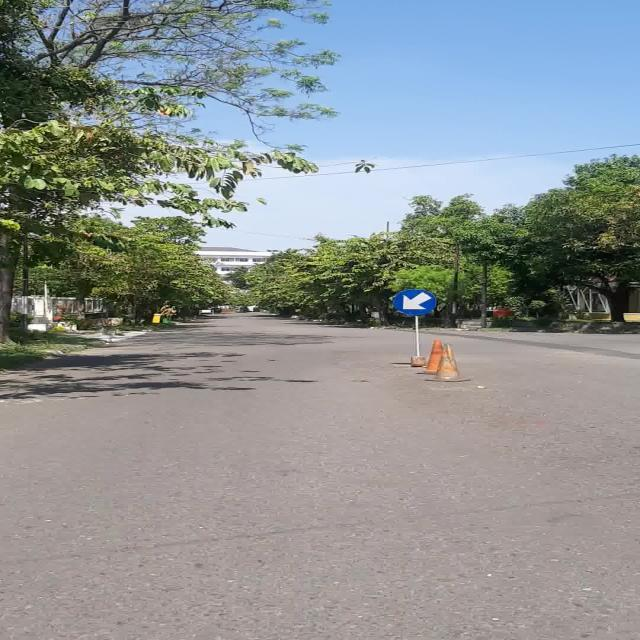Lajur Kiri: (394, 289, 436, 315)
